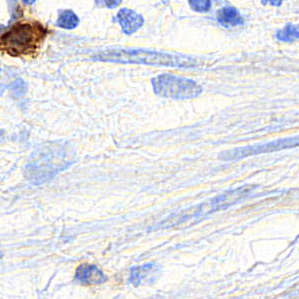Lymphocyte: (1, 18, 51, 57)
